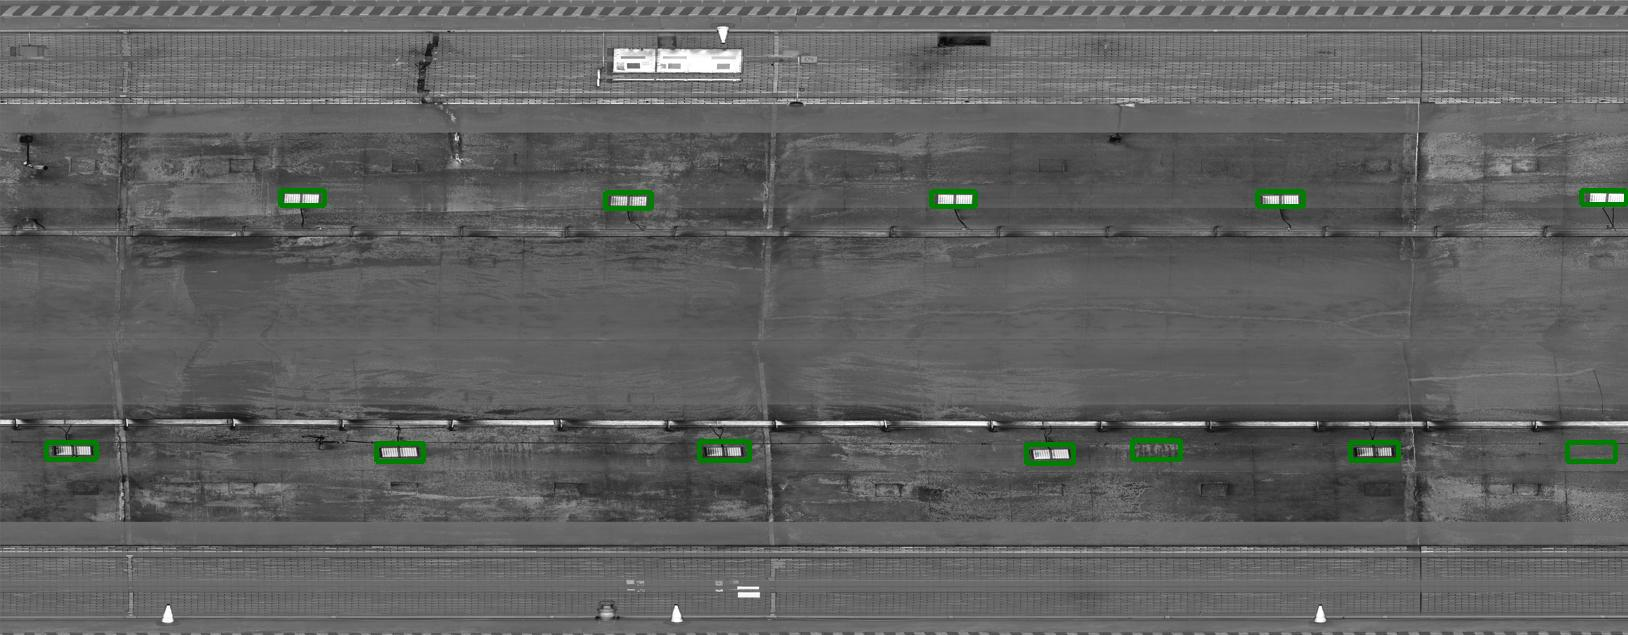light: (931, 188, 976, 208), (1583, 188, 1628, 208), (49, 441, 94, 460), (1350, 441, 1395, 460), (278, 189, 323, 208), (378, 441, 423, 460), (607, 190, 652, 209), (702, 442, 747, 461), (1028, 444, 1073, 463), (1256, 189, 1301, 208)
